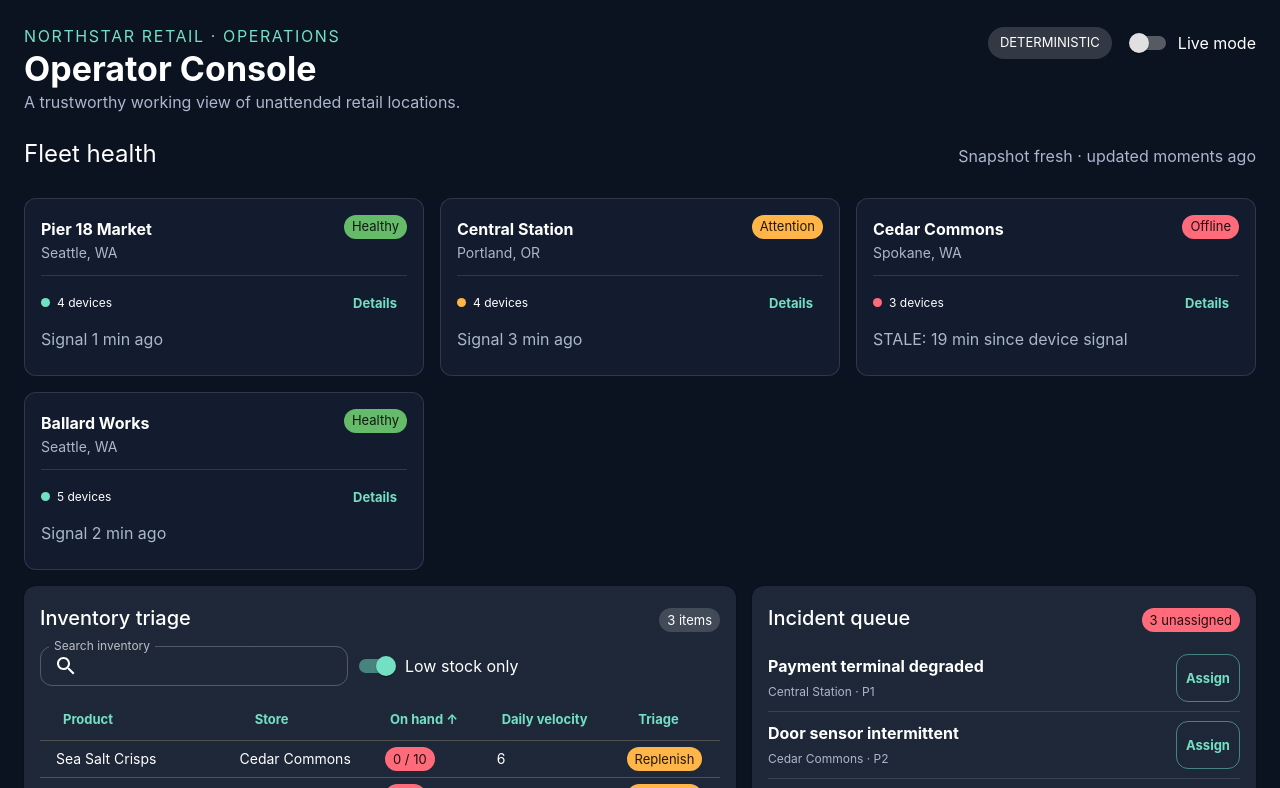
Test: operator console smoke flow › surfaces deterministic assignment rollback
Click the button with aria-label "Assign Payment terminal degraded": coordinates (1208, 678) [1176,654,1240,702]
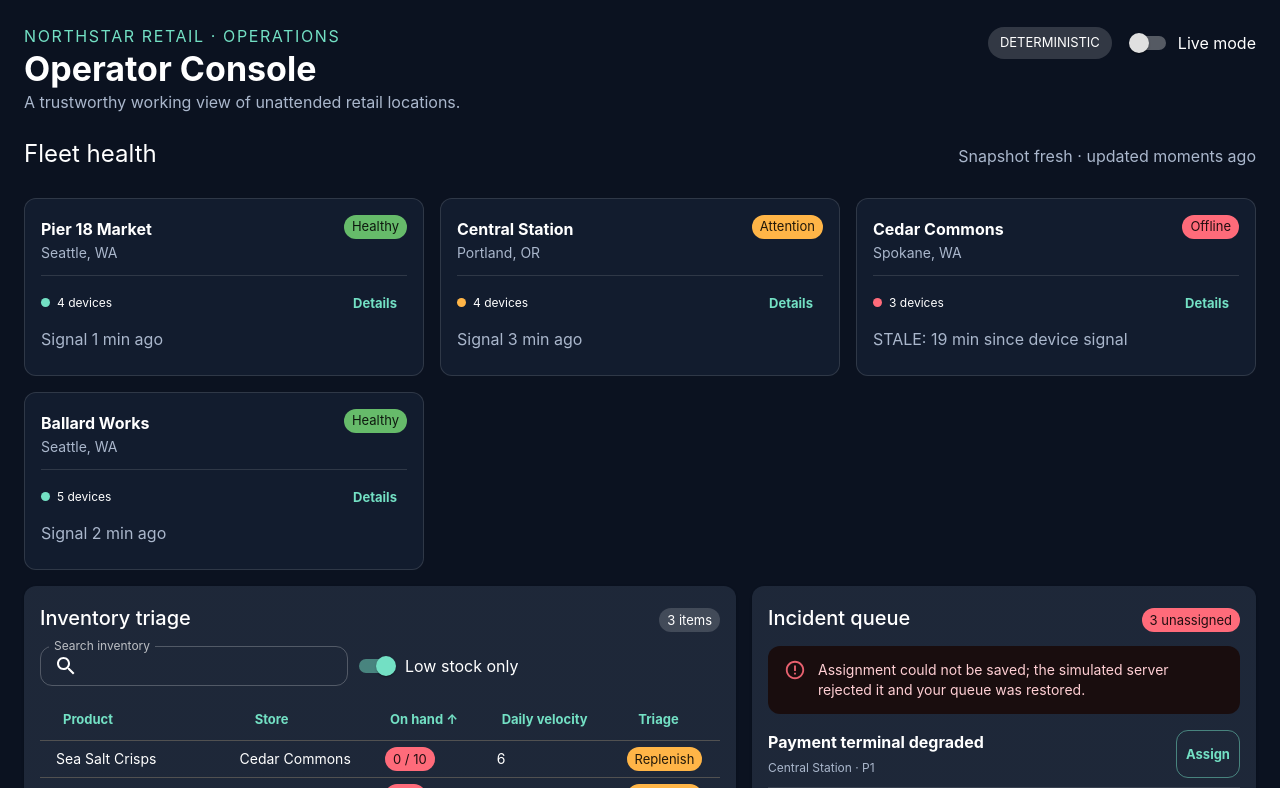
Expected: the text "Assignment could not be saved" is shown, [818,652,1224,708]
